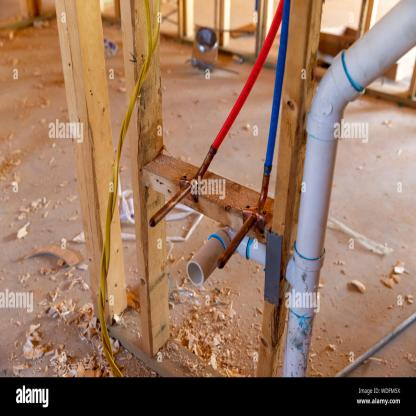PVC: (283, 0, 415, 376), (186, 223, 265, 289)
